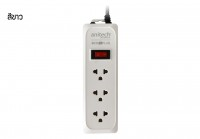Three_eye_plug: (81, 20, 121, 139)
